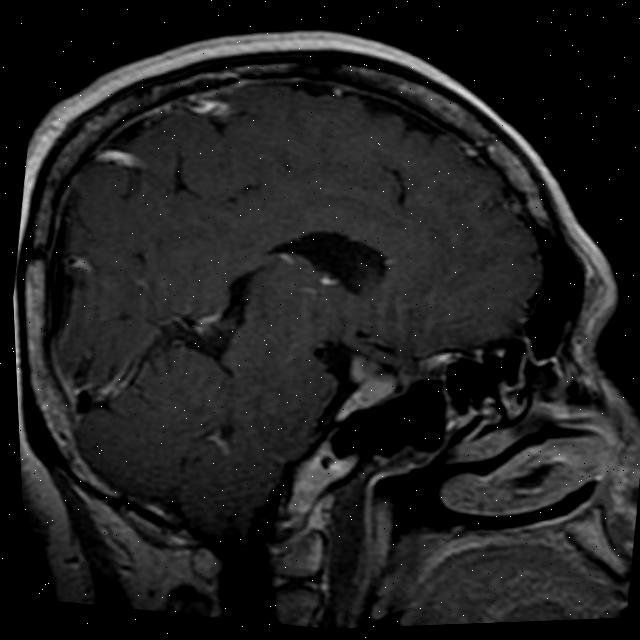Pituitary: (335, 353, 404, 428)
